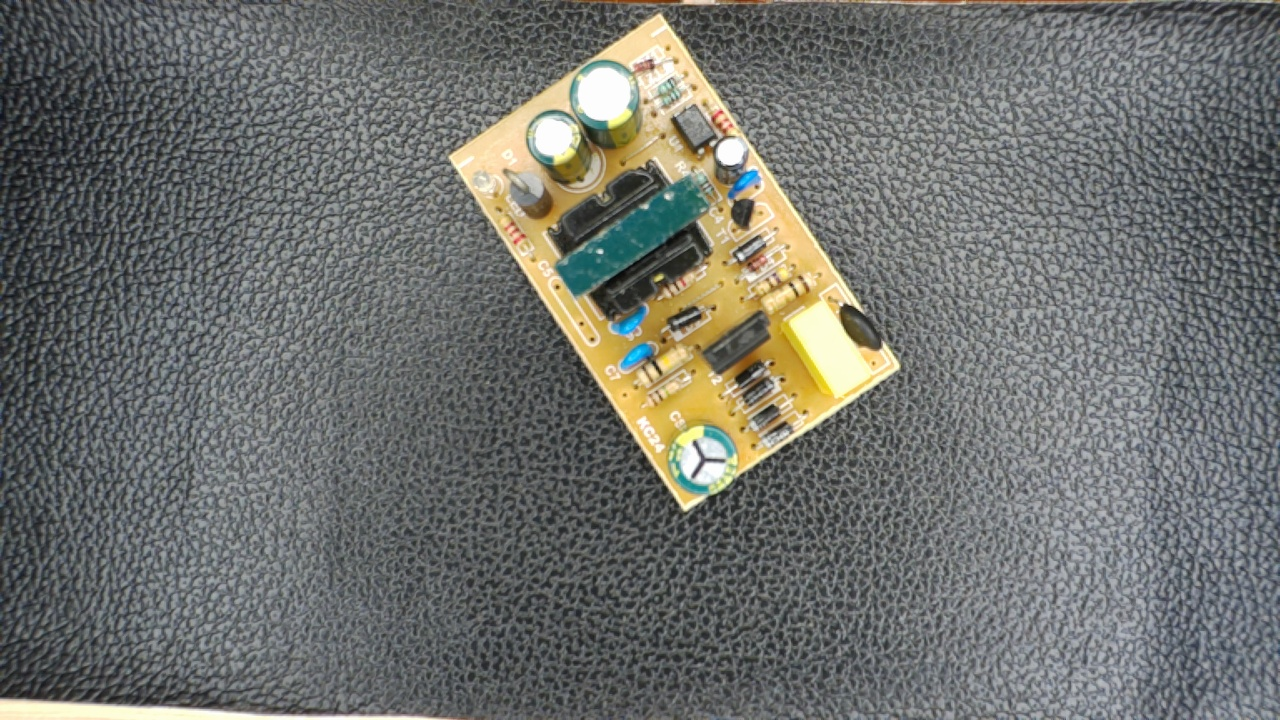fuse: (830, 293, 888, 357)
hv_capacitor: (663, 417, 743, 495)
optocoupler: (668, 102, 722, 158)
